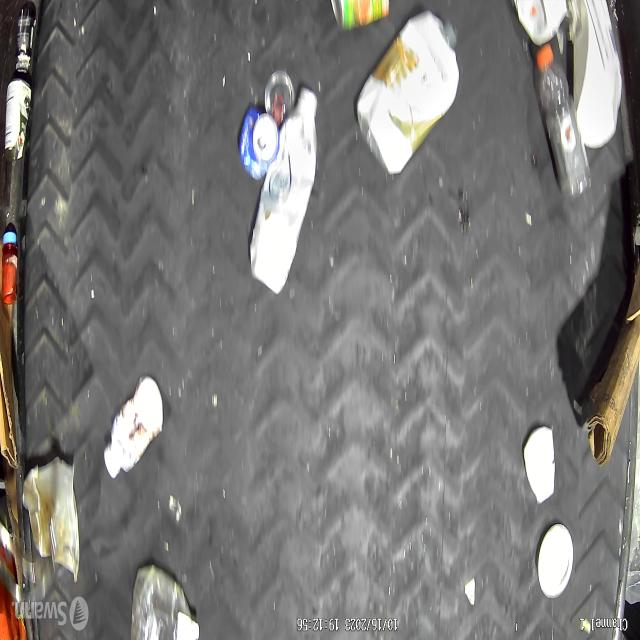can: (22, 454, 81, 585), (237, 105, 280, 181), (3, 77, 33, 166), (329, 0, 392, 36), (263, 70, 295, 126), (15, 5, 38, 76)
plastic_bottle: (532, 36, 592, 206)
